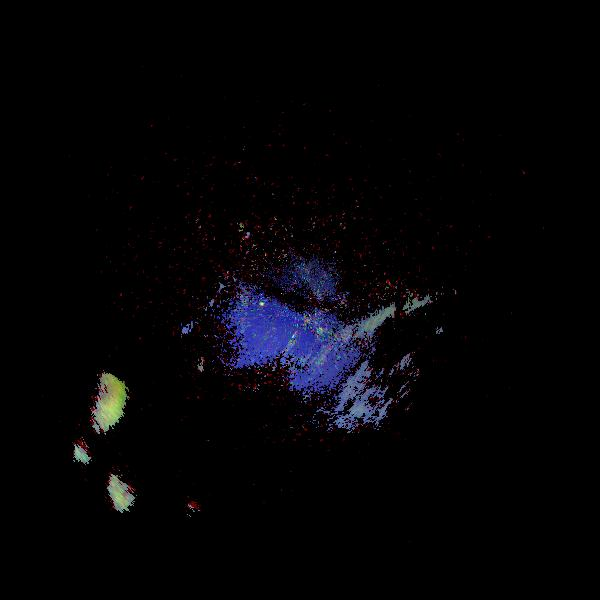roost: (45, 350, 150, 455)
